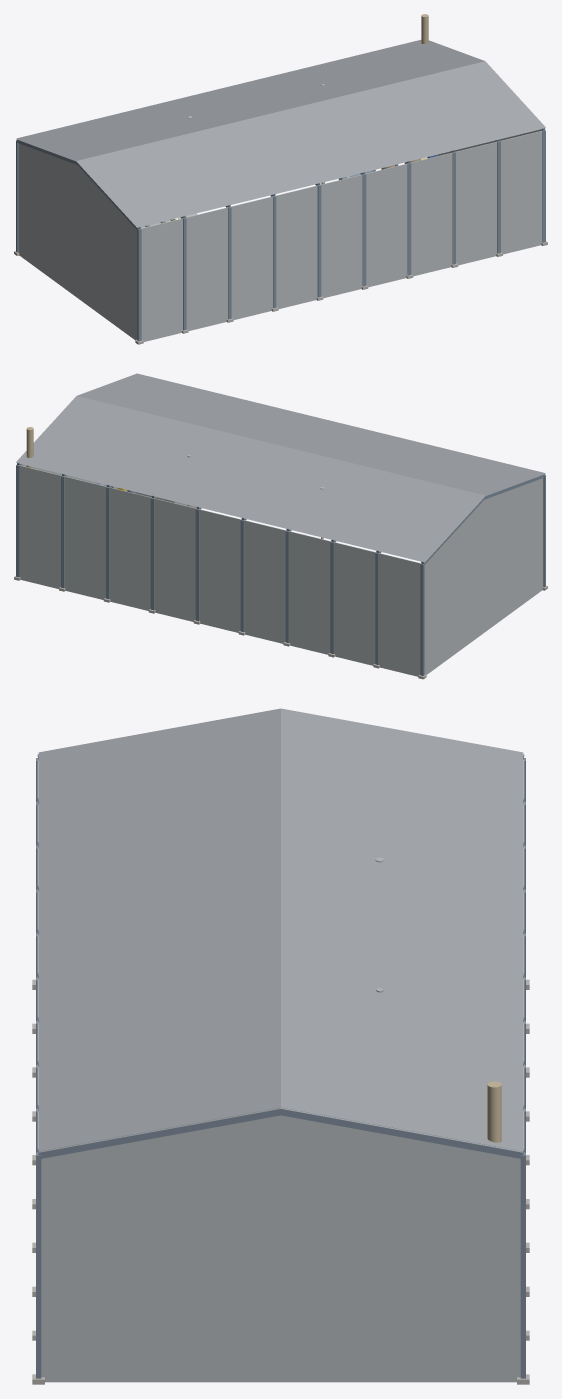
The model's file is SM_AnodeSlimesPlant.fbx.
3 renders of one model, top to bottom at view 1: azimuth 30°, elevation 25°; view 2: azimuth 150°, elevation 25°; view 3: azimuth 270°, elevation 25°, orthographic. The views are drawn at different scales.
Parts seen in each view (by area): view 1: ASP_Building_Roof, ASP_Building_Wall_S, ASP_Building_Wall_W, ASP_Building_Frame; view 2: ASP_Building_Roof, ASP_Building_Wall_N, ASP_Building_Wall_W, ASP_Building_Frame; view 3: ASP_Building_Roof, ASP_Building_Wall_E, ASP_Building_Frame, ASP_SeleniumScrubbers.
Boxes of the visible parts, <box> form: ASP_Building_Roof: <box>16,40,545,227</box>; ASP_Building_Wall_S: <box>141,130,542,341</box>; ASP_Building_Wall_W: <box>18,143,137,339</box>; ASP_Building_Frame: <box>14,128,547,344</box>; ASP_Building_Roof: <box>16,373,545,562</box>; ASP_Building_Wall_N: <box>19,465,422,676</box>; ASP_Building_Wall_W: <box>424,478,543,674</box>; ASP_Building_Frame: <box>14,462,547,679</box>; ASP_Building_Roof: <box>38,708,523,1152</box>; ASP_Building_Wall_E: <box>41,1115,520,1382</box>; ASP_Building_Frame: <box>32,754,529,1384</box>; ASP_SeleniumScrubbers: <box>487,1081,501,1142</box>.
Bounding box in the file's own units: 5270 × 1808 × 2770.
